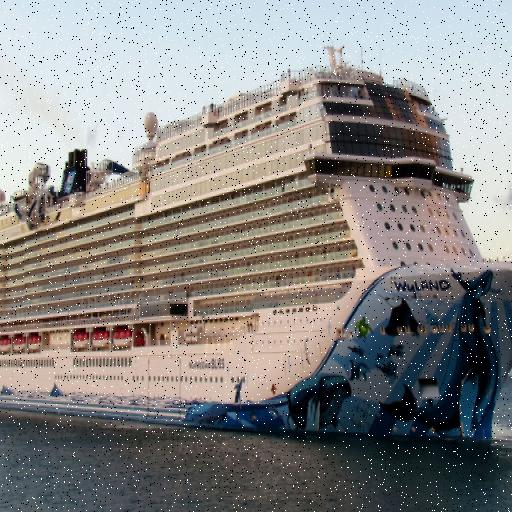cruises: (1, 36, 512, 468)
